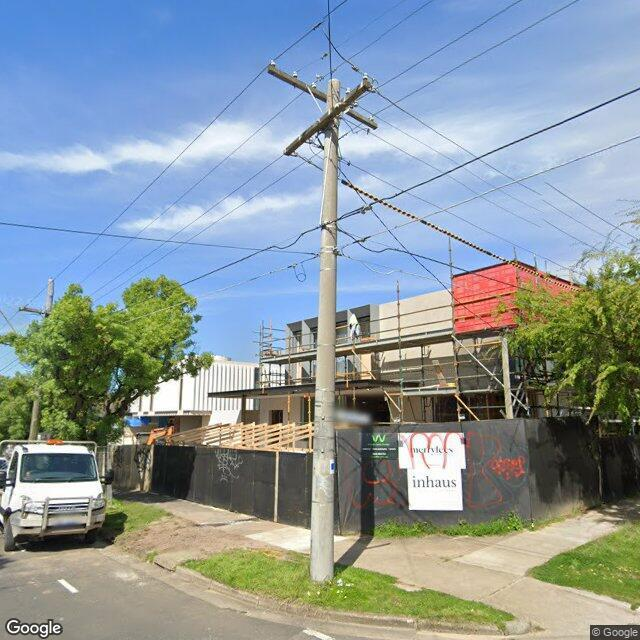concrete-pole: (308, 78, 341, 581)
crossarm: (268, 59, 378, 133), (282, 73, 375, 157), (19, 306, 52, 317)
timber-pole: (27, 278, 55, 443)
